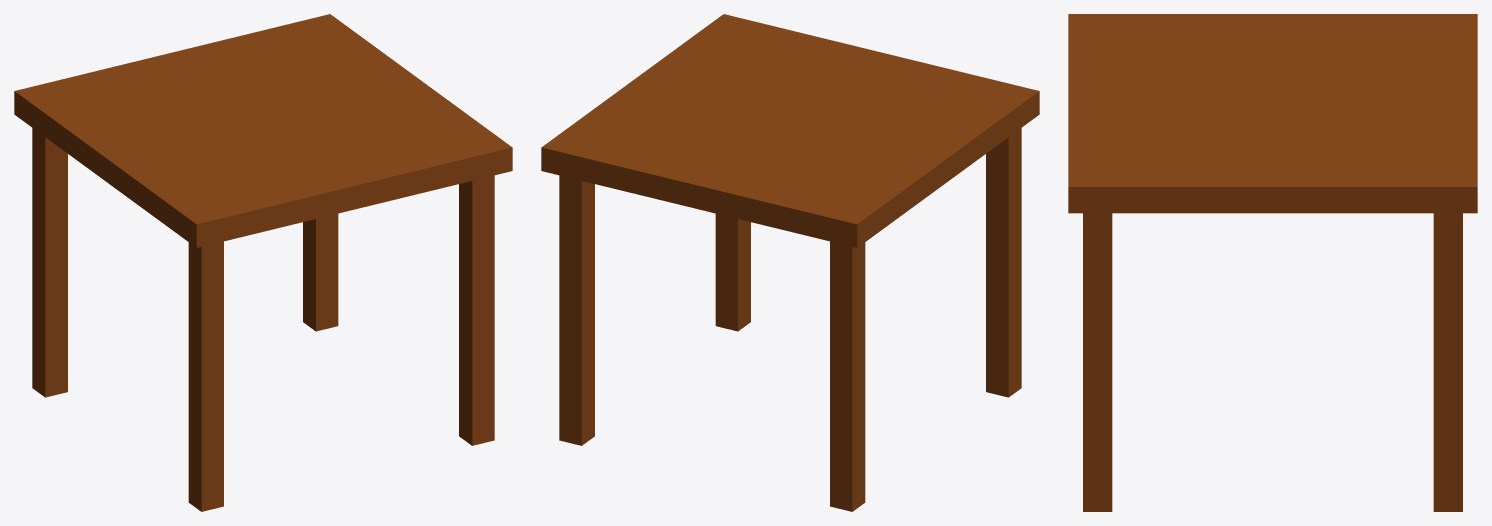
Rendered from Table.fbx.
The picture shows the model from 3 angles, left to right: view 1: azimuth 30°, elevation 25°; view 2: azimuth 150°, elevation 25°; view 3: azimuth 270°, elevation 25°; orthographic projection. The views are drawn at different scales.
Visible parts, largest first — view 1: Cube.004; view 2: Cube.004; view 3: Cube.004.
Part boxes in pixels (x1=…): Cube.004: x1=14, y1=14, x2=512, y2=511; Cube.004: x1=541, y1=14, x2=1039, y2=511; Cube.004: x1=1068, y1=14, x2=1477, y2=511.
Size of the model in its own units: 2800 by 2500 by 2800.
